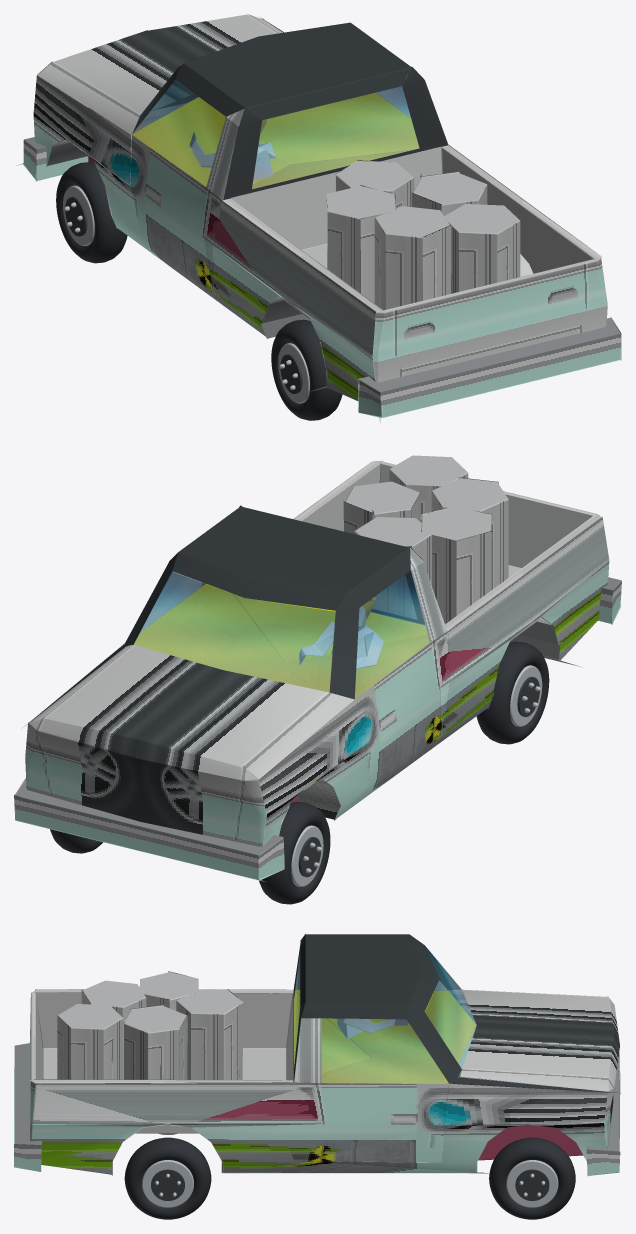
The model's file is car-nuctruck.glb.
The picture shows the model from 3 angles, top to bottom: view 1: azimuth 30°, elevation 25°; view 2: azimuth 150°, elevation 25°; view 3: azimuth 270°, elevation 25°; orthographic projection. The views are drawn at different scales.
Parts seen in each view (by area): view 1: nuctruckShape.001, windShape.002, nuctruckShape, Rounded tire.017, Rounded tire.018, Alloy rim.018, Alloy rim.017, Rim recess.034, Rim recess.036; view 2: nuctruckShape.001, windShape.002, nuctruckShape, Rounded tire.018, Rounded tire.017, Alloy rim.017, Alloy rim.018, Rounded tire.016, Rim recess.034, Rim recess.036; view 3: nuctruckShape.001, windShape.002, nuctruckShape, Rounded tire.019, Rounded tire.016, Alloy rim.016, Alloy rim.019, Rim recess.033, Rim recess.039.
Boxes of the visible parts, x1,y1,x2,y2 form: nuctruckShape.001: [16, 14, 621, 423]; windShape.002: [131, 77, 419, 188]; nuctruckShape: [132, 93, 418, 188]; Rounded tire.017: [56, 162, 127, 263]; Rounded tire.018: [271, 319, 342, 420]; Alloy rim.018: [278, 343, 309, 403]; Alloy rim.017: [63, 185, 94, 245]; Rim recess.034: [65, 196, 87, 236]; Rim recess.036: [280, 354, 302, 393]; nuctruckShape.001: [14, 455, 621, 881]; windShape.002: [134, 570, 429, 699]; nuctruckShape: [130, 584, 429, 698]; Rounded tire.018: [476, 641, 549, 744]; Rounded tire.017: [259, 801, 330, 904]; Alloy rim.017: [291, 825, 323, 886]; Alloy rim.018: [510, 665, 542, 726]; Rounded tire.016: [50, 829, 102, 853]; Rim recess.034: [298, 837, 320, 877]; Rim recess.036: [517, 676, 539, 716]; nuctruckShape.001: [14, 934, 620, 1176]; windShape.002: [294, 946, 476, 1083]; nuctruckShape: [294, 990, 476, 1083]; Rounded tire.019: [124, 1137, 211, 1219]; Rounded tire.016: [489, 1137, 575, 1219]; Alloy rim.016: [506, 1160, 558, 1207]; Alloy rim.019: [142, 1160, 193, 1207]; Rim recess.033: [515, 1169, 549, 1200]; Rim recess.039: [151, 1169, 184, 1200].
Bounding box in the file's own units: 2.53 × 2.12 × 5.61.
6 materials, 3 textured.
